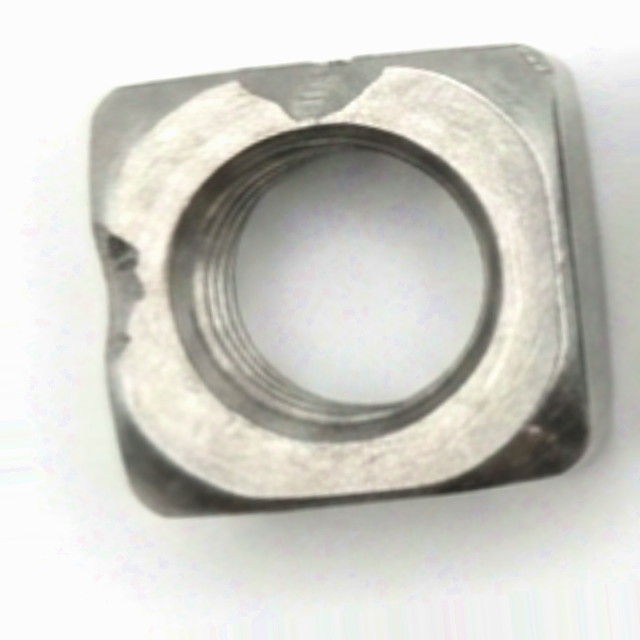defect: (228, 52, 397, 122), (74, 213, 148, 371)
